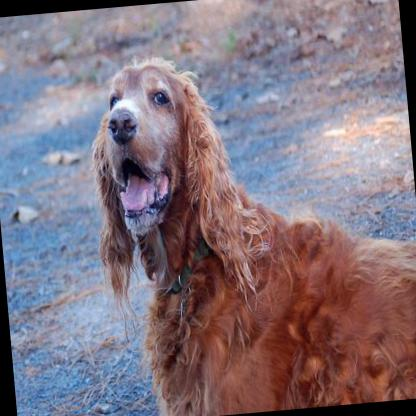Irish_setter: (81, 33, 416, 416)
